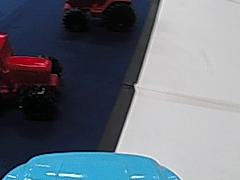Tracktor: (0, 36, 65, 115), (62, 0, 135, 34)
